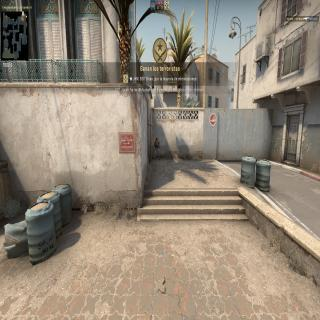T-Head: (155, 137, 159, 143)
